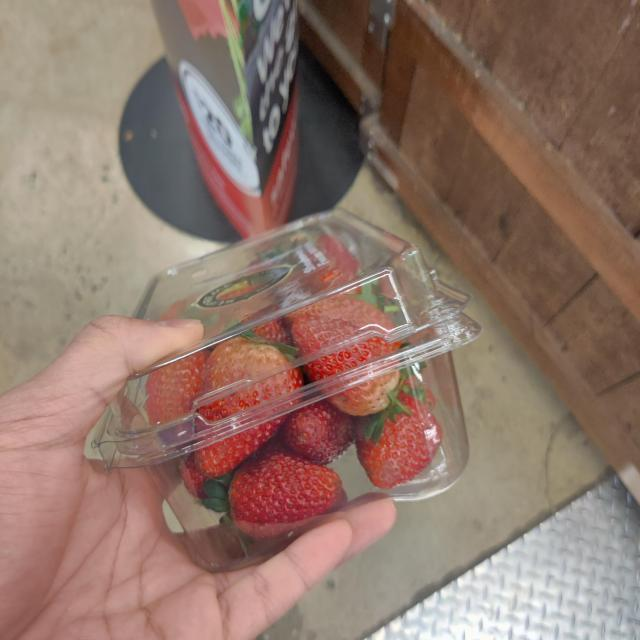Strawberry: (105, 209, 481, 553)
